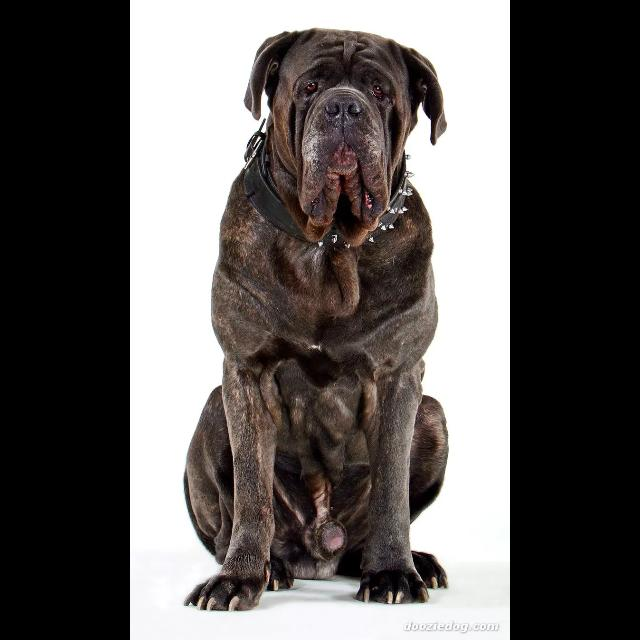mastino_napoletano: (184, 28, 452, 612)
